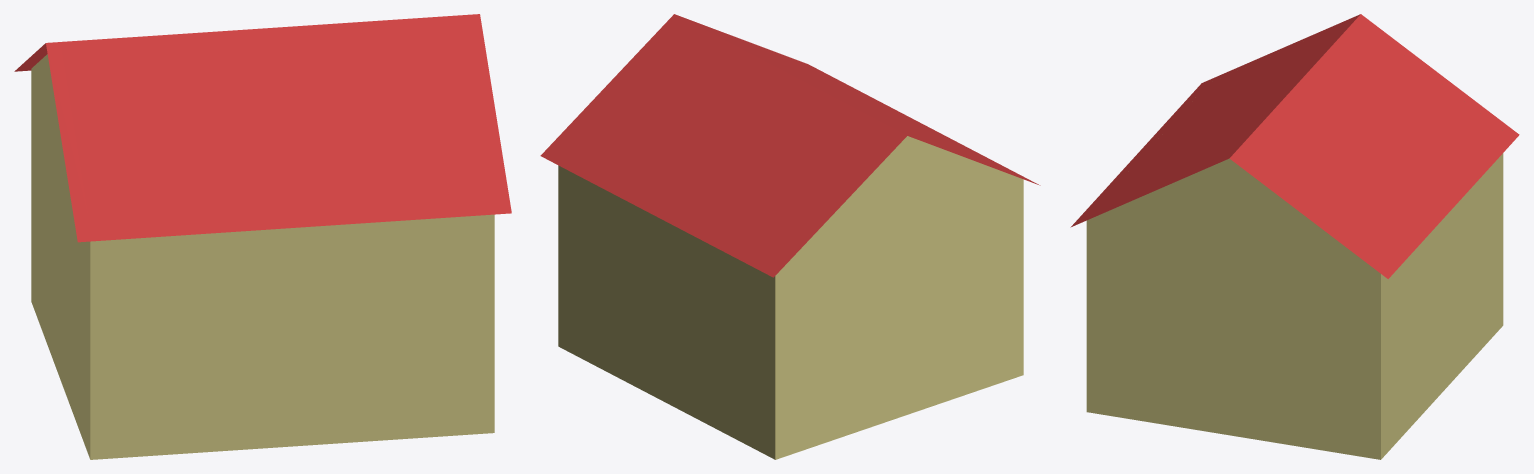
3 views of the same model, side by side, from view 1: azimuth 30°, elevation 25°; view 2: azimuth 150°, elevation 25°; view 3: azimuth 270°, elevation 25° (orthographic). The views are drawn at different scales.
Bounding box in the file's own units: 18.37 × 17.78 × 12.33.
